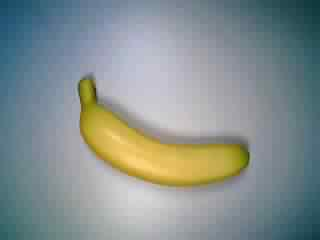banana: (75, 77, 253, 191)
